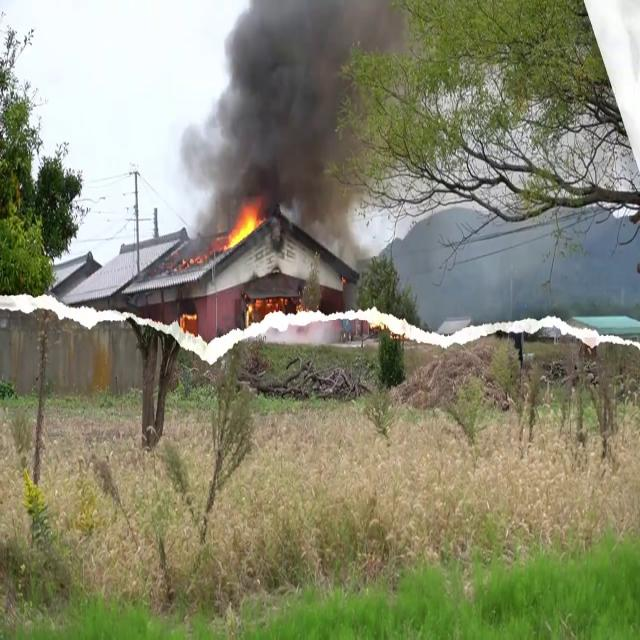Fire: (188, 202, 266, 260), (210, 202, 266, 256)
Smoke: (180, 0, 390, 236)
